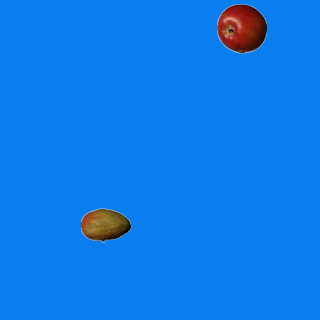Apple Braeburn: (216, 3, 266, 53)
Papaya: (80, 200, 130, 250)
